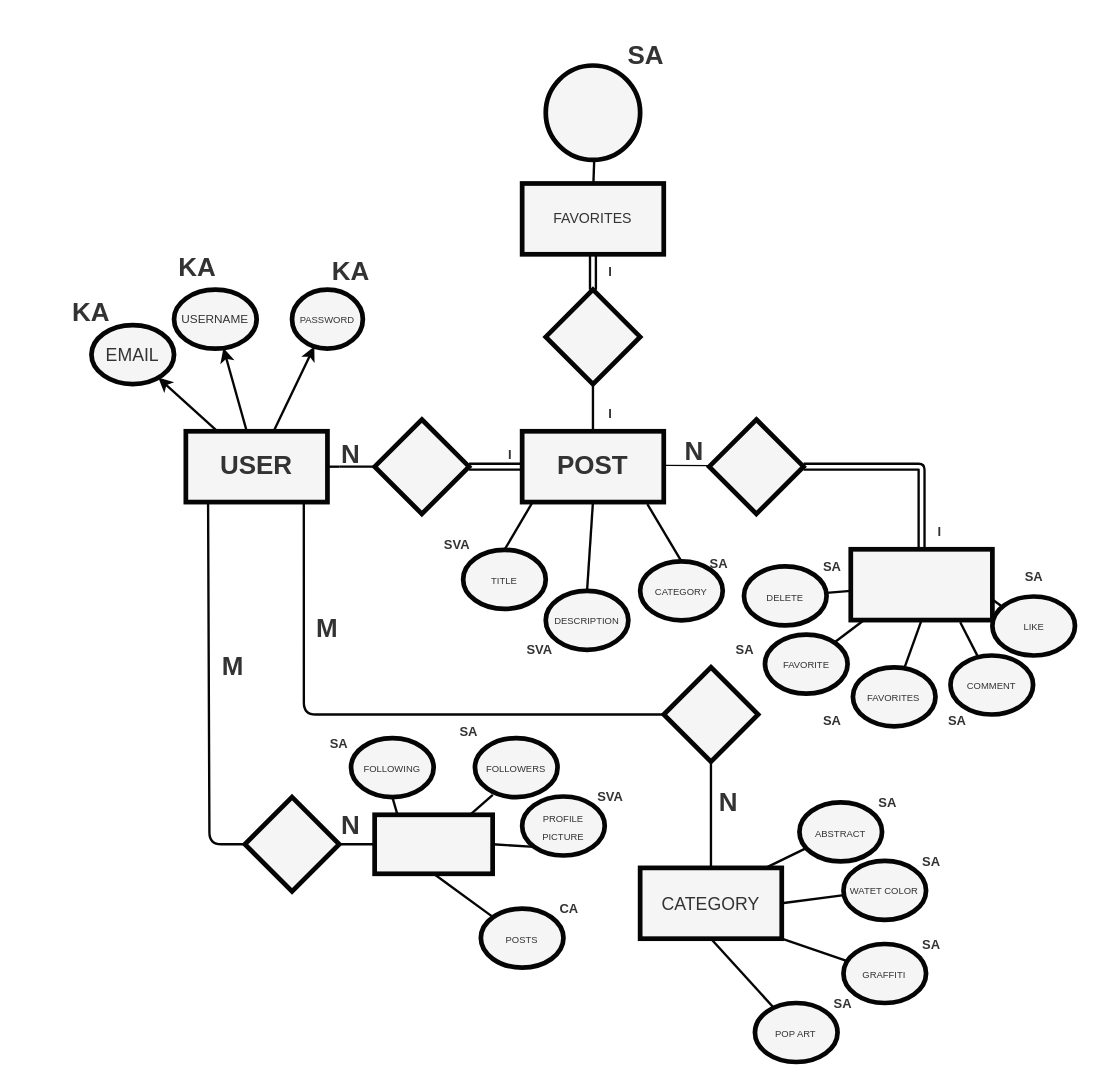
The diagram is 1097 pixels wide and 1084 high, and some of its shapes have lost their labels. Each missing label, with the box of its shape:
CAN ADD TO: (543, 287, 642, 386)
CONTAINS: (706, 417, 805, 516)
CREATE: (372, 417, 471, 516)
DATE ADDED: (543, 63, 642, 162)
INTERACTION: (848, 546, 994, 622)
MANAGE: (242, 794, 341, 893)
PROFILE: (372, 812, 494, 876)
SELECTS: (661, 664, 760, 763)
